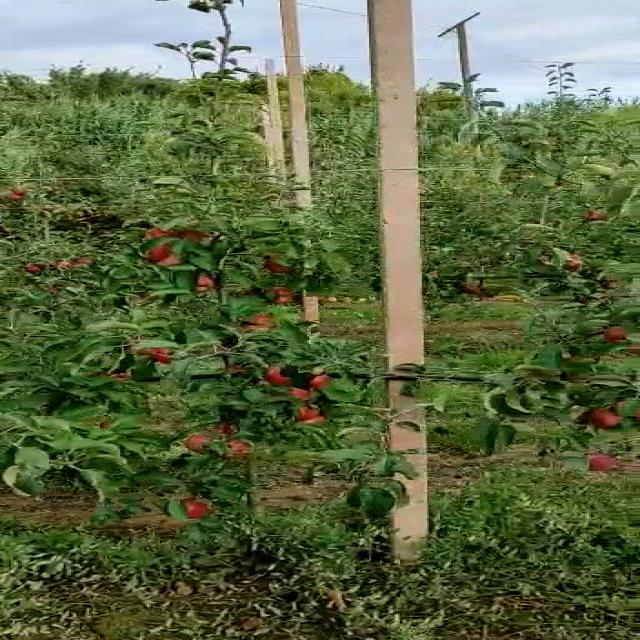100-_ripeness: (591, 403, 638, 429), (134, 246, 192, 266), (175, 431, 218, 457), (262, 365, 304, 387), (215, 433, 252, 455), (140, 220, 178, 241), (305, 364, 333, 391), (291, 403, 325, 425), (176, 498, 213, 517), (596, 324, 634, 342), (136, 346, 178, 362), (269, 288, 300, 308), (266, 256, 298, 274), (193, 273, 218, 296)
